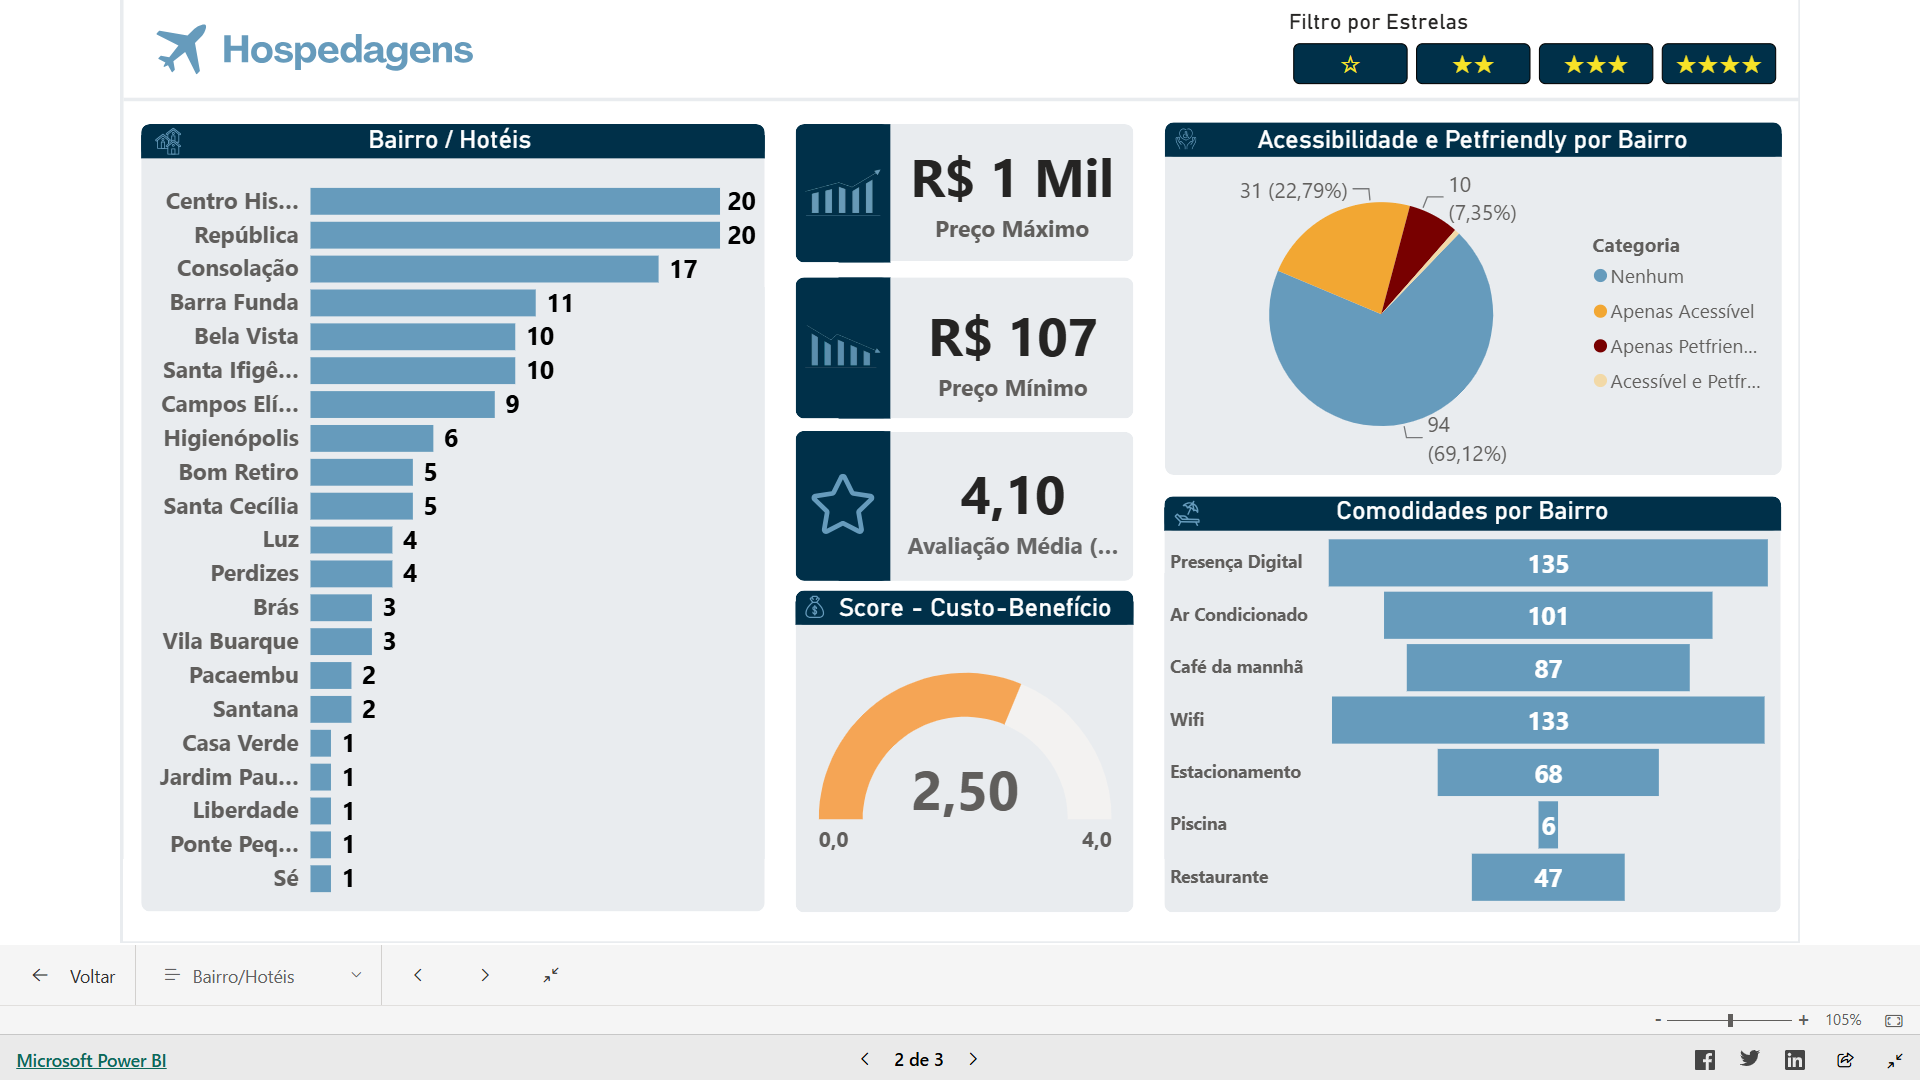

The dashboard page shown, as its layout file describes it:
{"tool":"powerbi","page":{"name":"Bairro/Hotéis","canvas":[1280,720],"ordinal":1},"visuals":[{"type":"card","fields":{"Values":["Max(Hoteis_FATECSEBRAE.Preço Médio da Diária (R$))"]},"box":[590,95.6,178.9,100],"z":0},{"type":"clusteredBarChart","title":"Bairro / Hotéis","fields":{"Y":["Hoteis_FATECSEBRAE.Total Hotéis"],"Category":["Hoteis_FATECSEBRAE.Bairro","Hoteis_FATECSEBRAE.acessível_PCD","Hoteis_FATECSEBRAE.Caf_manha","Hoteis_FATECSEBRAE.estacionamento","Hoteis_FATECSEBRAE.piscina","Hoteis_FATECSEBRAE.restaurante_Bar","Hoteis_FATECSEBRAE.Serviço_Quarto"]},"box":[13.6,95.5,476.1,600],"z":1000},{"type":"card","fields":{"Values":["Min(Hoteis_FATECSEBRAE.Preço Médio da Diária (R$))"]},"box":[590,211.1,180,110],"z":2000},{"type":"card","fields":{"Values":["Avg(Hoteis_FATECSEBRAE.Avaliação Média (0-5))"]},"box":[590,330,180,113.3],"z":3000},{"type":"funnel","title":"Comodidades por Bairro","fields":{"Y":["Sum(Hoteis_FATECSEBRAE.Presenca_Digital_OTAs)","Sum(Hoteis_FATECSEBRAE.Ar_condicionado)","Sum(Hoteis_FATECSEBRAE.Caf_manha)","Sum(Hoteis_FATECSEBRAE.Wi_fi)","Sum(Hoteis_FATECSEBRAE.estacionamento)","Sum(Hoteis_FATECSEBRAE.piscina)","Sum(Hoteis_FATECSEBRAE.restaurante_Bar)"]},"box":[795.5,378.4,470.5,317],"z":4000},{"type":"gauge","title":"Score - Custo-Benefício","fields":{"Y":["Hoteis_FATECSEBRAE.CB_Score"]},"box":[516.7,451.1,253.3,244.4],"z":5000},{"type":"pieChart","title":"Acessibilidade e Petfriendly por Bairro ","fields":{"Category":["Hoteis_FATECSEBRAE.Categoria_Comodidades"],"Y":["CountNonNull(Hoteis_FATECSEBRAE.Bairro)"]},"box":[795,95,470.7,267],"z":6000},{"type":"ChicletSlicer1448559807354","title":"Filtro por Estrelas","fields":{"Category":["Hoteis_FATECSEBRAE.Estrelas teste"]},"box":[885.6,5.6,383.3,74.4],"z":7000}]}

Visuals, with their boxes on the page's 1280x720 design canvas (x1, y1, x2, y2). These are canvas units, not pixel positions in the 1920x1080 screenshot, which may show the page scaled, cropped or inside an application window:
card - Max(Hoteis_FATECSEBRAE.Preço Médio da Diária (R$)): select_region(590, 96, 769, 196)
"Bairro / Hotéis" clusteredBarChart: select_region(14, 96, 490, 696)
card - Min(Hoteis_FATECSEBRAE.Preço Médio da Diária (R$)): select_region(590, 211, 770, 321)
card - Avg(Hoteis_FATECSEBRAE.Avaliação Média (0-5)): select_region(590, 330, 770, 443)
"Comodidades por Bairro" funnel: select_region(796, 378, 1266, 695)
"Score - Custo-Benefício" gauge: select_region(517, 451, 770, 696)
"Acessibilidade e Petfriendly por Bairro " pieChart: select_region(795, 95, 1266, 362)
"Filtro por Estrelas" ChicletSlicer1448559807354: select_region(886, 6, 1269, 80)
